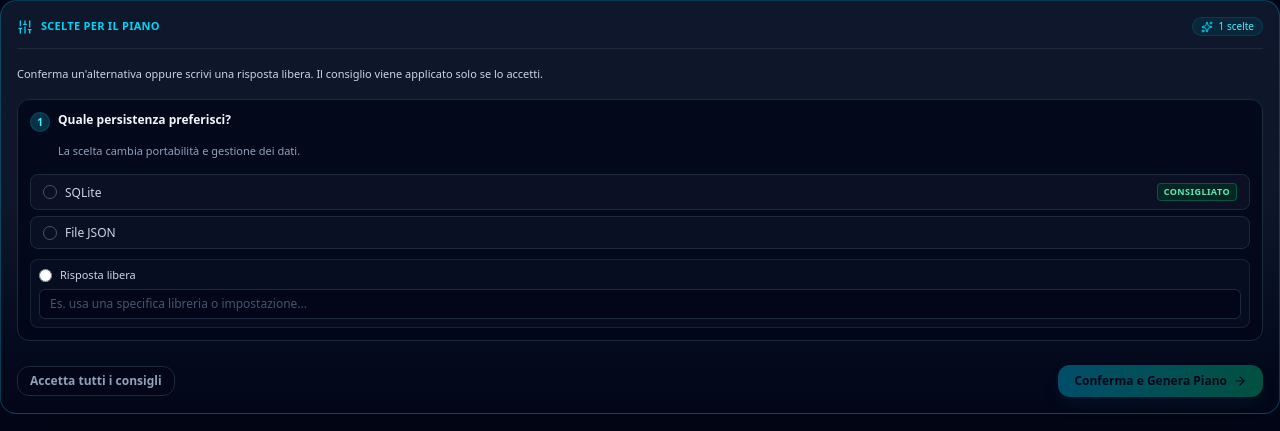
Test: PlanInterviewCard › does not treat the displayed recommendation as confirmation
The width and height of the screenshot is (1280, 431).
Expected: the button "Conferma e Genera Piano" is disabled, x1=1058 y1=365 x2=1263 y2=397
Click the button "SQLite Consigliato" at coordinates (83, 192), box x1=30 y1=174 x2=1250 y2=210
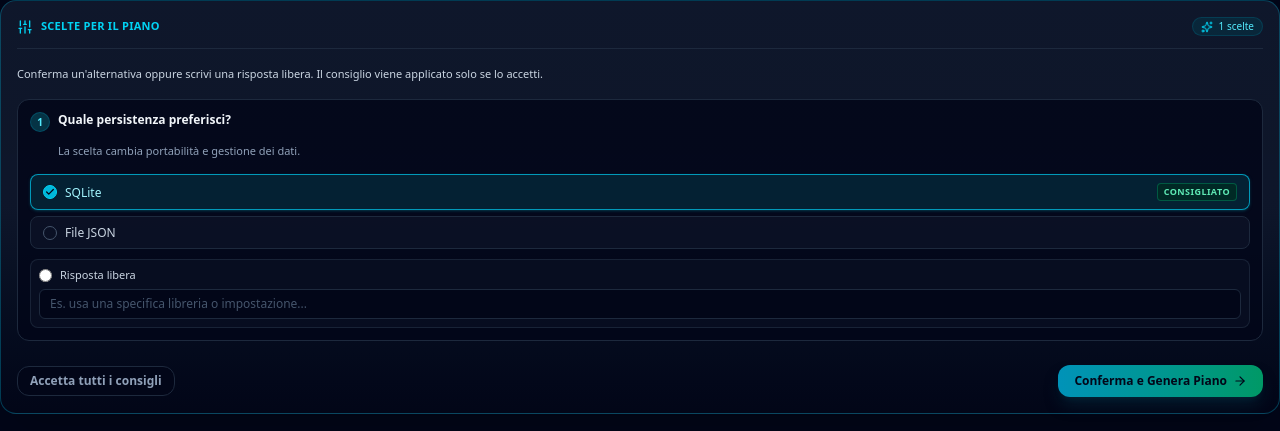
Expected: the button "Conferma e Genera Piano" is enabled, x1=1058 y1=365 x2=1263 y2=397
